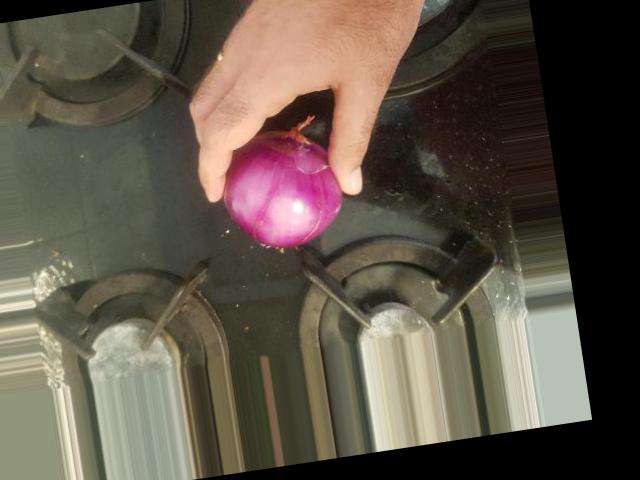onion: (215, 123, 353, 253)
